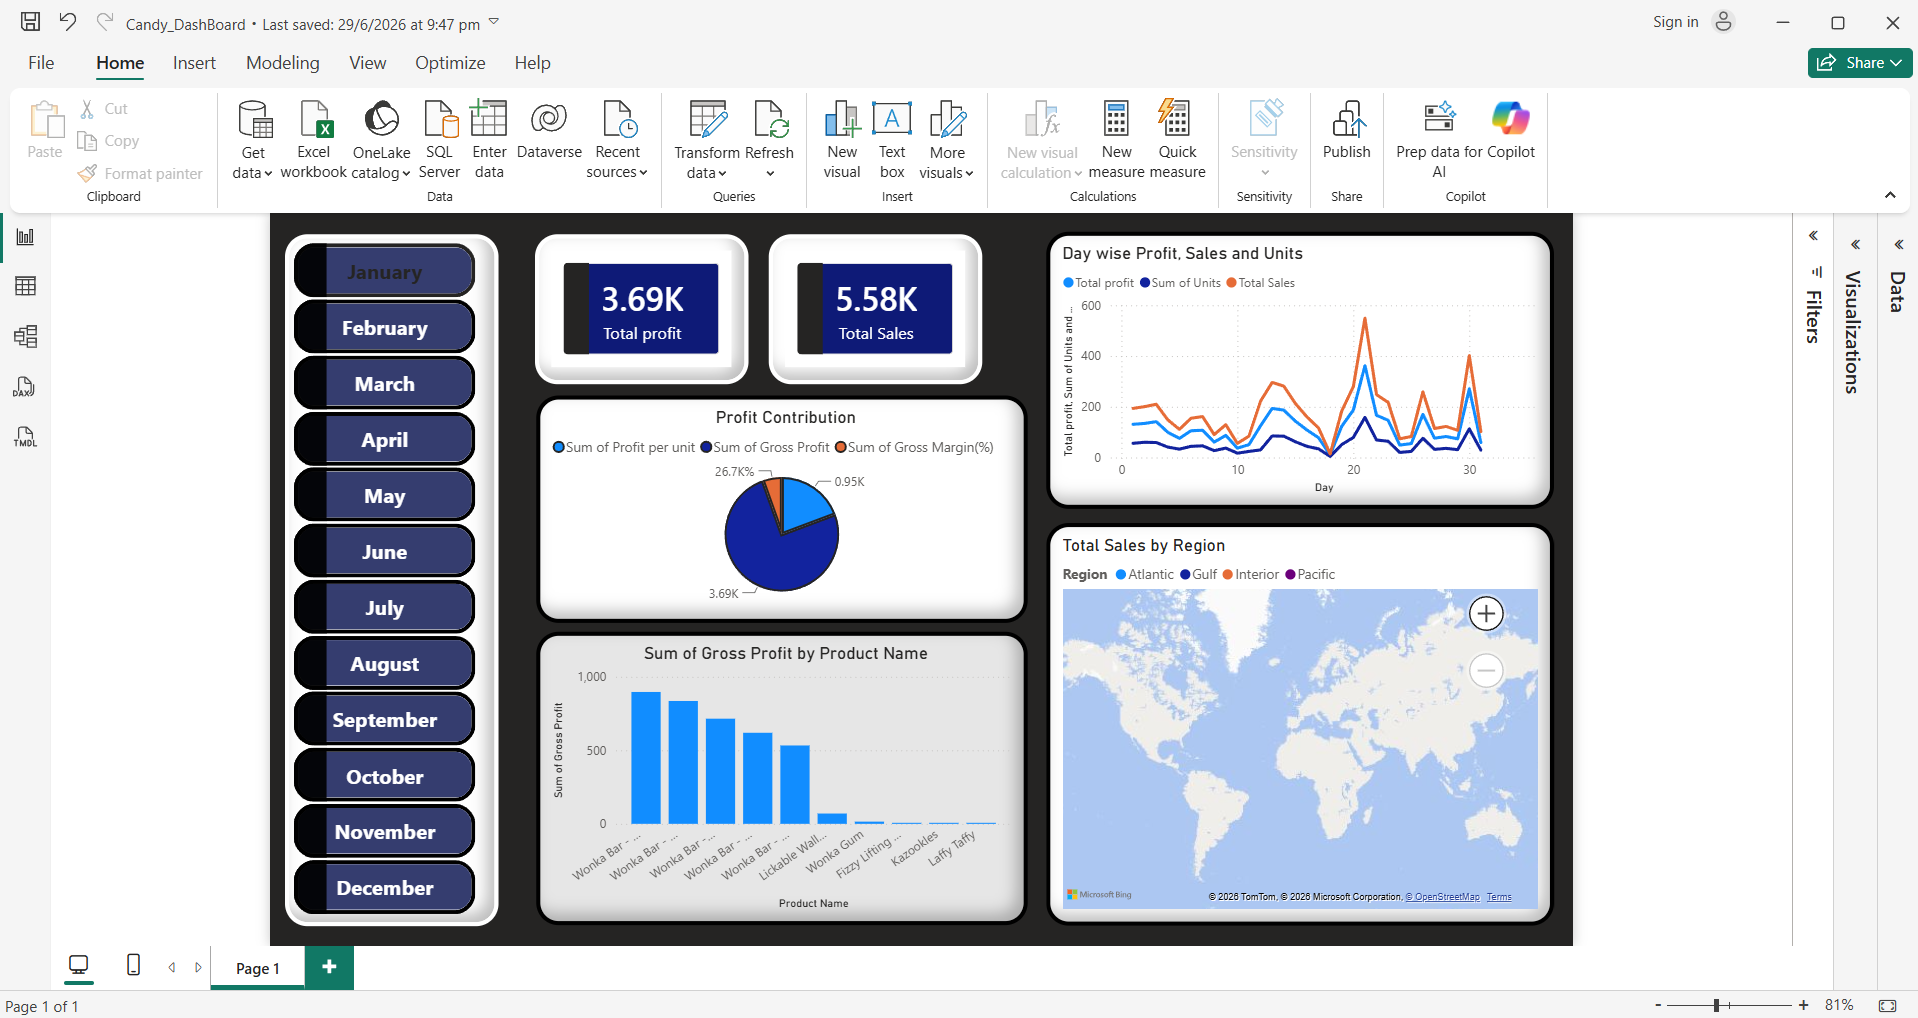

The page's visual inventory and layout, read from the dashboard file:
{"tool":"powerbi","page":{"name":"Page 1","canvas":[1280,720],"ordinal":0},"visuals":[{"type":"listSlicer","fields":{"Values":["Dataset_Candy.Order Date.Variation.Date Hierarchy.Month"]},"box":[15,20.6,209.9,679.2],"z":0},{"type":"cardVisual","fields":{"Data":["Dataset_Candy.Total Sales"]},"box":[489.9,20.6,209.9,146.8],"z":1000},{"type":"cardVisual","fields":{"Data":["Dataset_Candy.Total profit"]},"box":[260.7,20.6,209.9,146.8],"z":2000},{"type":"columnChart","fields":{"Category":["Dataset_Candy.Product Name"],"Y":["Sum(Dataset_Candy.Gross Profit)"]},"box":[261.4,411,482.2,288.3],"z":3000},{"type":"pieChart","title":"Profit Contribution ","fields":{"Y":["Sum(Dataset_Candy.Profit per unit)","Sum(Dataset_Candy.Gross Profit)","Sum(Dataset_Candy.Gross Margin(%))"]},"box":[261.4,179.1,482.2,223.3],"z":4000},{"type":"filledMap","fields":{"Series":["Dataset_Candy.Region"]},"box":[762,304.3,498.2,395.1],"z":5000},{"type":"lineChart","title":"Day wise Profit, Sales and Units","fields":{"Category":["Dataset_Candy.Order Date.Variation.Date Hierarchy.Day"],"Y":["Dataset_Candy.Total profit","Sum(Dataset_Candy.Units)","Dataset_Candy.Total Sales"]},"box":[762,18.4,498.2,272.4],"z":5001}]}

Visuals, with their boxes on the page's 1280x720 design canvas (x1, y1, x2, y2). These are canvas units, not pixel positions in the 1918x1018 screenshot, which may show the page scaled, cropped or inside an application window:
listSlicer - Dataset_Candy.Order Date.Variation.Date Hierarchy.Month: bbox(15, 21, 225, 700)
cardVisual - Dataset_Candy.Total Sales: bbox(490, 21, 700, 167)
cardVisual - Dataset_Candy.Total profit: bbox(261, 21, 471, 167)
columnChart - Dataset_Candy.Product Name x Sum(Dataset_Candy.Gross Profit): bbox(261, 411, 744, 699)
"Profit Contribution " pieChart: bbox(261, 179, 744, 402)
filledMap - Dataset_Candy.Region: bbox(762, 304, 1260, 699)
"Day wise Profit, Sales and Units" lineChart: bbox(762, 18, 1260, 291)
